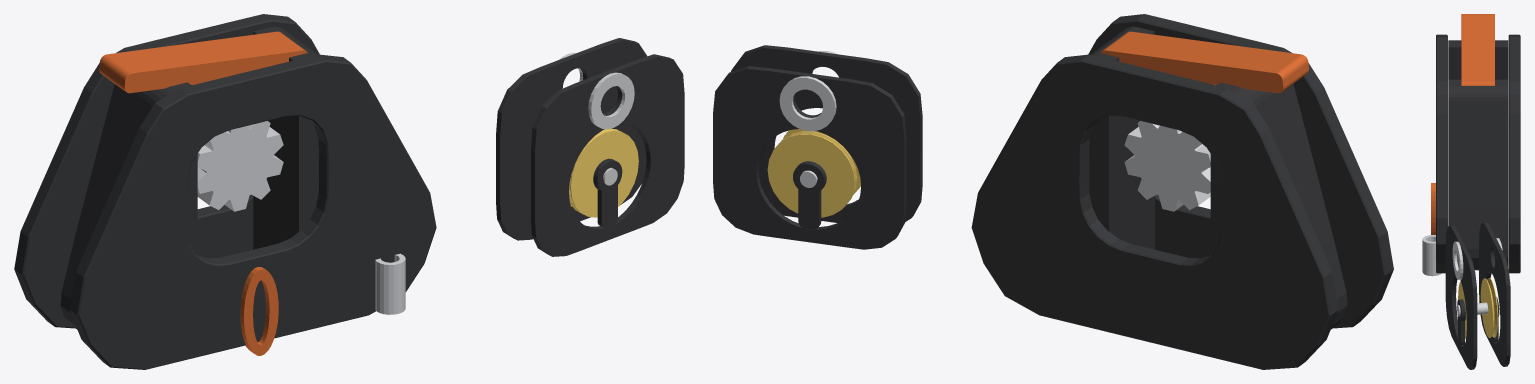
The model's file is belay_device.fbx.
The picture shows the model from 3 angles, left to right: view 1: azimuth 30°, elevation 25°; view 2: azimuth 150°, elevation 25°; view 3: azimuth 270°, elevation 25°; orthographic projection. The views are drawn at different scales.
Visible parts, largest first — view 1: DEVICE_SidePlate_L, PULLEY_Plates, DEVICE_SidePlate_R, DEVICE_Body, DEVICE_Handle, DEVICE_Cam, PULLEY_Sheaves, DEVICE_Lanyard, DEVICE_RopeGuide, PULLEY_Eye; view 2: DEVICE_SidePlate_R, PULLEY_Plates, DEVICE_SidePlate_L, DEVICE_Body, DEVICE_Handle, DEVICE_Cam, PULLEY_Sheaves, PULLEY_Eye; view 3: DEVICE_Body, PULLEY_Plates, DEVICE_SidePlate_R, DEVICE_SidePlate_L, DEVICE_Handle, PULLEY_Sheaves, DEVICE_RopeGuide, PULLEY_Eye, DEVICE_Lanyard, PULLEY_Axle.
Boxes of the visible parts, box(x1,y1,x2,y2) form: DEVICE_SidePlate_L: box(69, 54, 436, 369); PULLEY_Plates: box(496, 38, 684, 256); DEVICE_SidePlate_R: box(14, 14, 319, 328); DEVICE_Body: box(60, 26, 318, 329); DEVICE_Handle: box(99, 31, 307, 93); DEVICE_Cam: box(197, 121, 283, 211); PULLEY_Sheaves: box(569, 128, 638, 217); DEVICE_Lanyard: box(240, 267, 278, 355); DEVICE_RopeGuide: box(375, 253, 405, 314); PULLEY_Eye: box(559, 52, 634, 129); DEVICE_SidePlate_R: box(971, 54, 1338, 369); PULLEY_Plates: box(713, 45, 922, 249); DEVICE_SidePlate_L: box(1088, 14, 1393, 328); DEVICE_Body: box(1089, 26, 1347, 329); DEVICE_Handle: box(1100, 31, 1308, 93); DEVICE_Cam: box(1124, 121, 1210, 211); PULLEY_Sheaves: box(767, 129, 860, 217); PULLEY_Eye: box(779, 51, 837, 131); DEVICE_Body: box(1448, 40, 1508, 270); PULLEY_Plates: box(1445, 222, 1510, 369); DEVICE_SidePlate_R: box(1508, 34, 1520, 273); DEVICE_SidePlate_L: box(1436, 34, 1447, 273); DEVICE_Handle: box(1461, 14, 1494, 85); PULLEY_Sheaves: box(1458, 278, 1498, 339); DEVICE_RopeGuide: box(1422, 235, 1441, 276); PULLEY_Eye: box(1452, 238, 1502, 279); DEVICE_Lanyard: box(1431, 183, 1435, 235); PULLEY_Axle: box(1457, 302, 1499, 316).
Size of the model in its own units: 0.2002 by 0.0878 by 0.0408.
